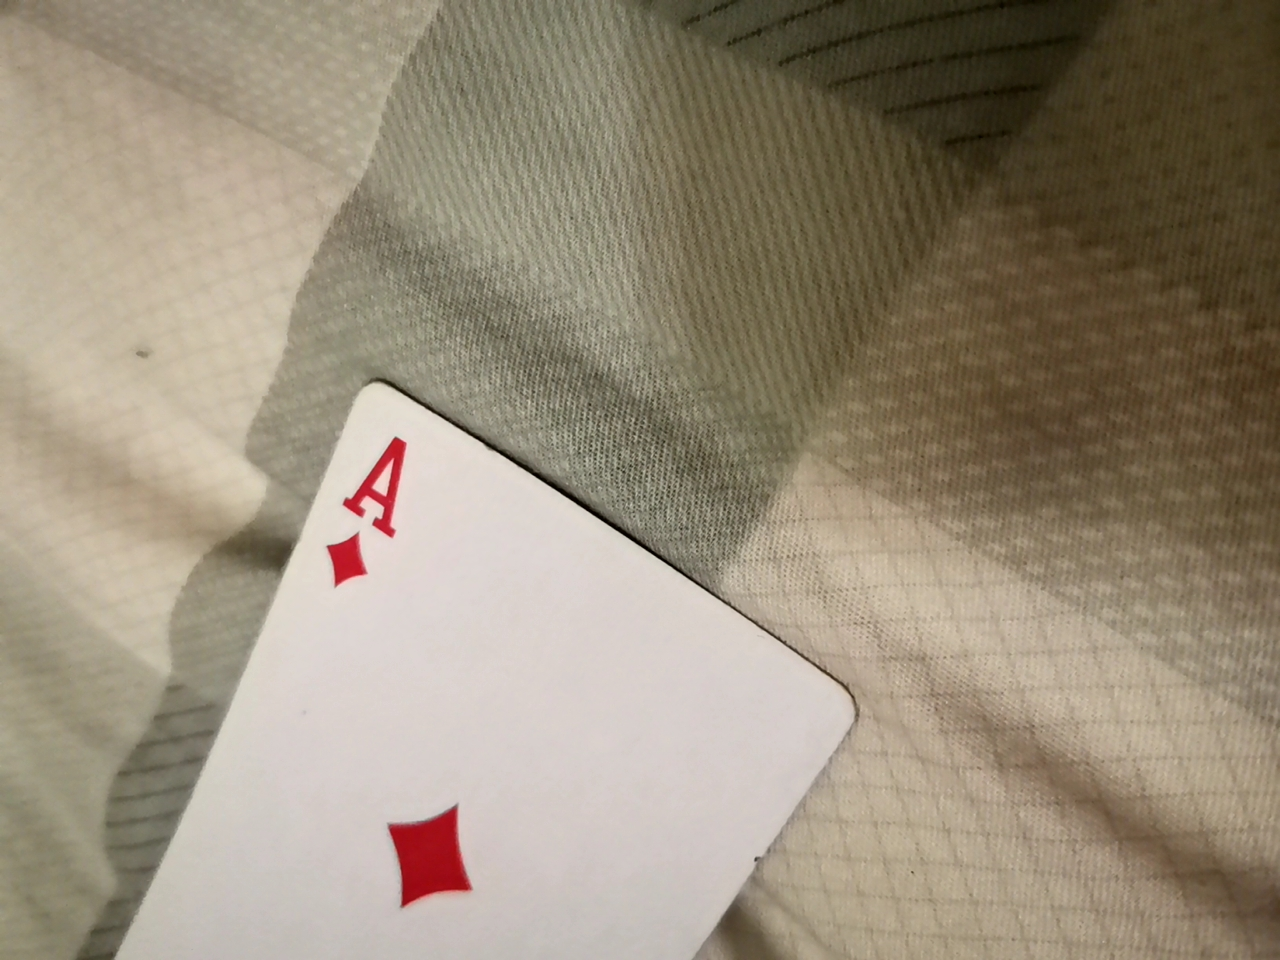fk a: (55, 389, 866, 958)
